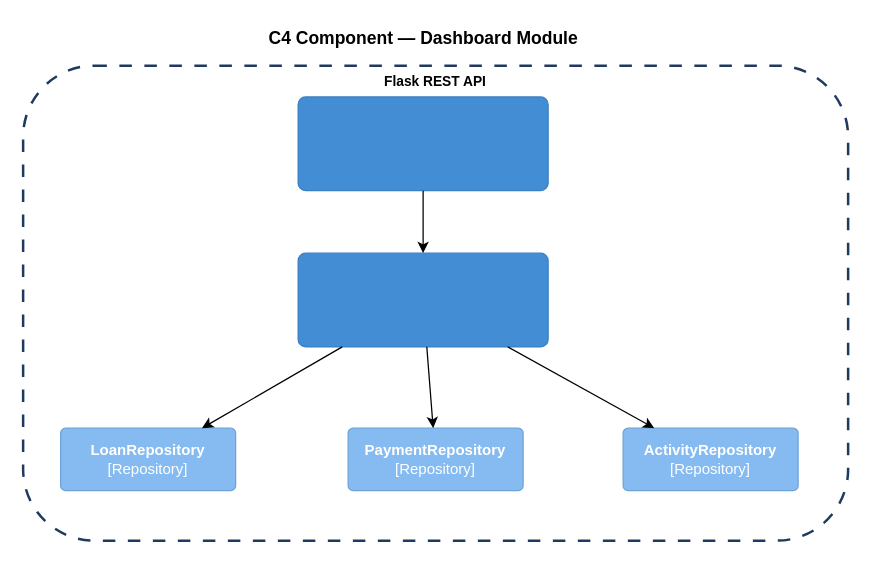
Some shapes in this 870 by 563 pixel diagram are drawn without their labels. Each missing label, with the centre of its shape:
"DashboardController [Blueprint] summary, active loans, recent activity" goes at [422,143].
"DashboardService [Service] Aggregates data from loans, payments, activity" goes at [422,299].
